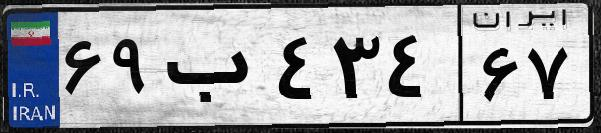3: (330, 28, 385, 110)
4: (270, 28, 330, 110), (385, 28, 445, 110)
6: (57, 26, 110, 100), (475, 38, 525, 113)
7: (525, 38, 570, 115)
9: (110, 28, 158, 98)
ب: (158, 20, 270, 120)
